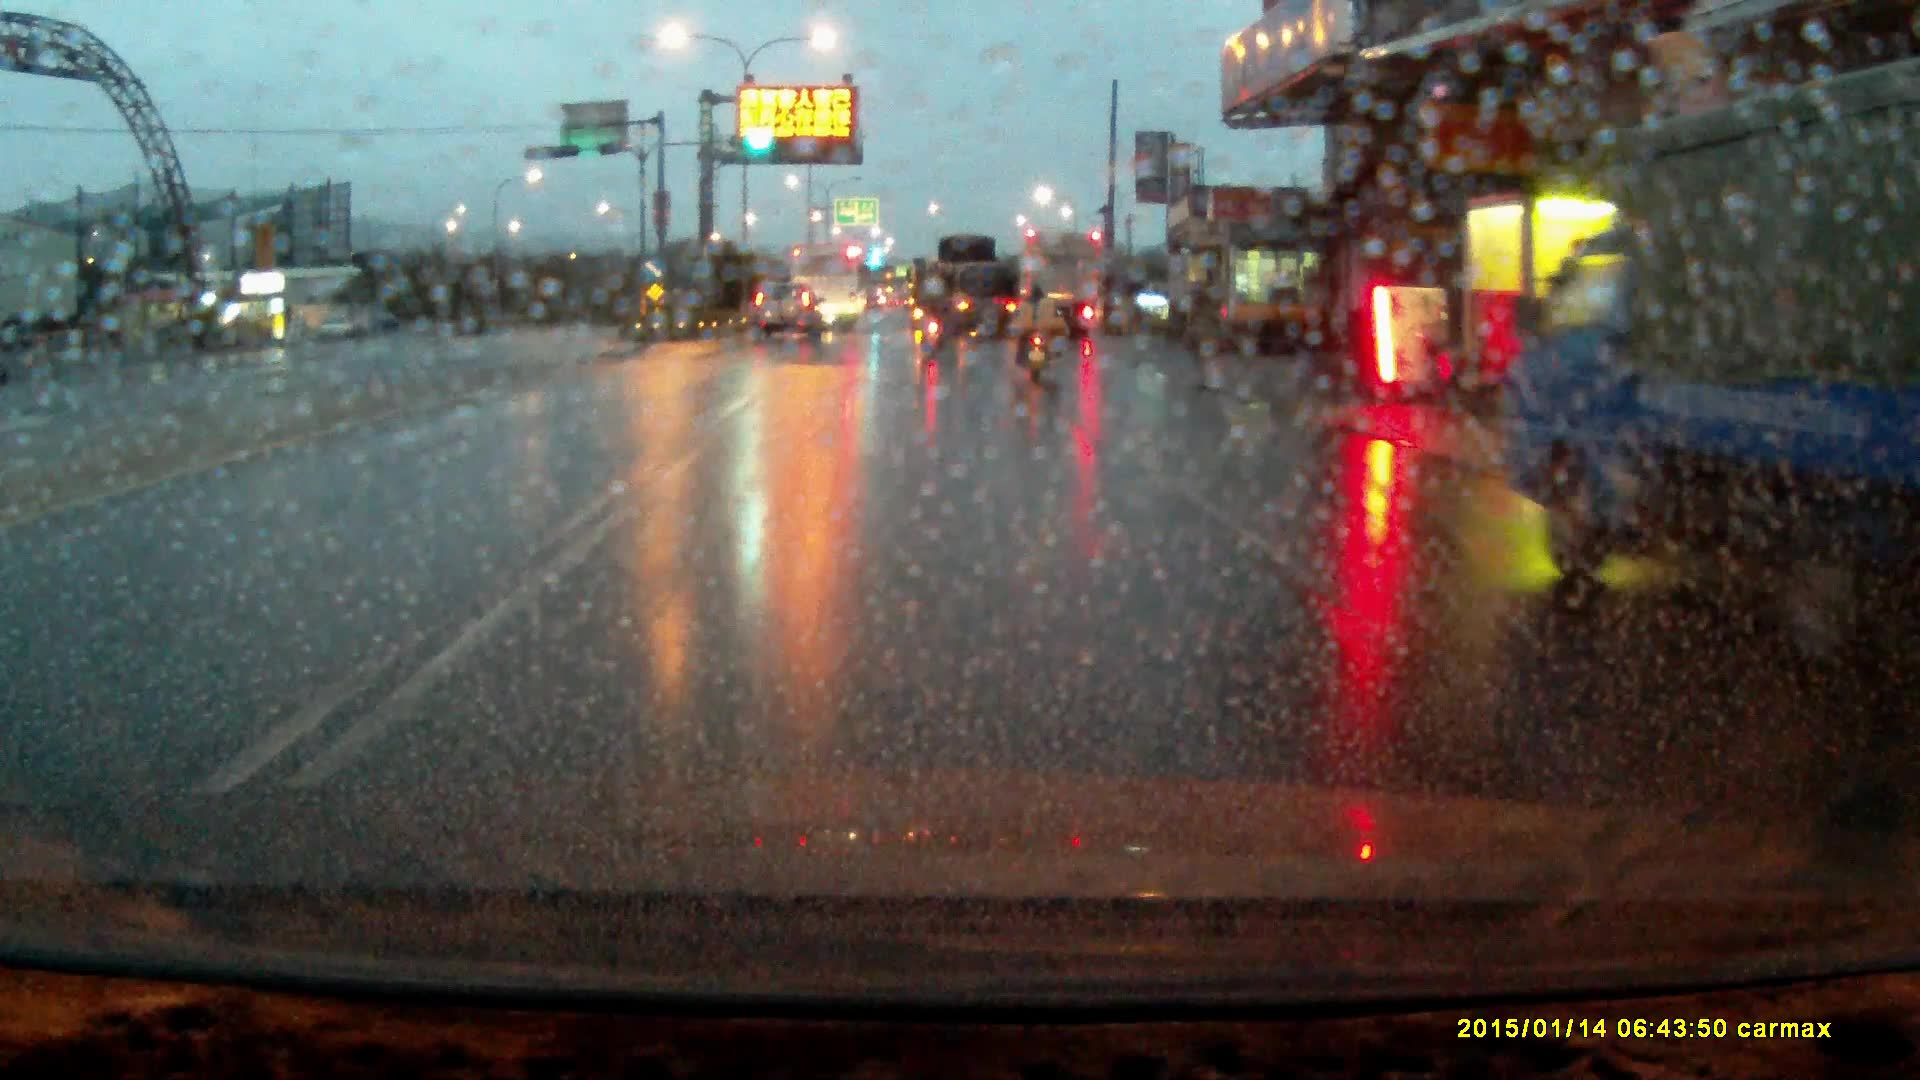rider: (1017, 281, 1055, 384), (920, 282, 945, 355)
vehicle: (1498, 88, 1920, 595), (924, 233, 1024, 345), (1022, 231, 1106, 337), (790, 238, 865, 329), (753, 278, 820, 342)
